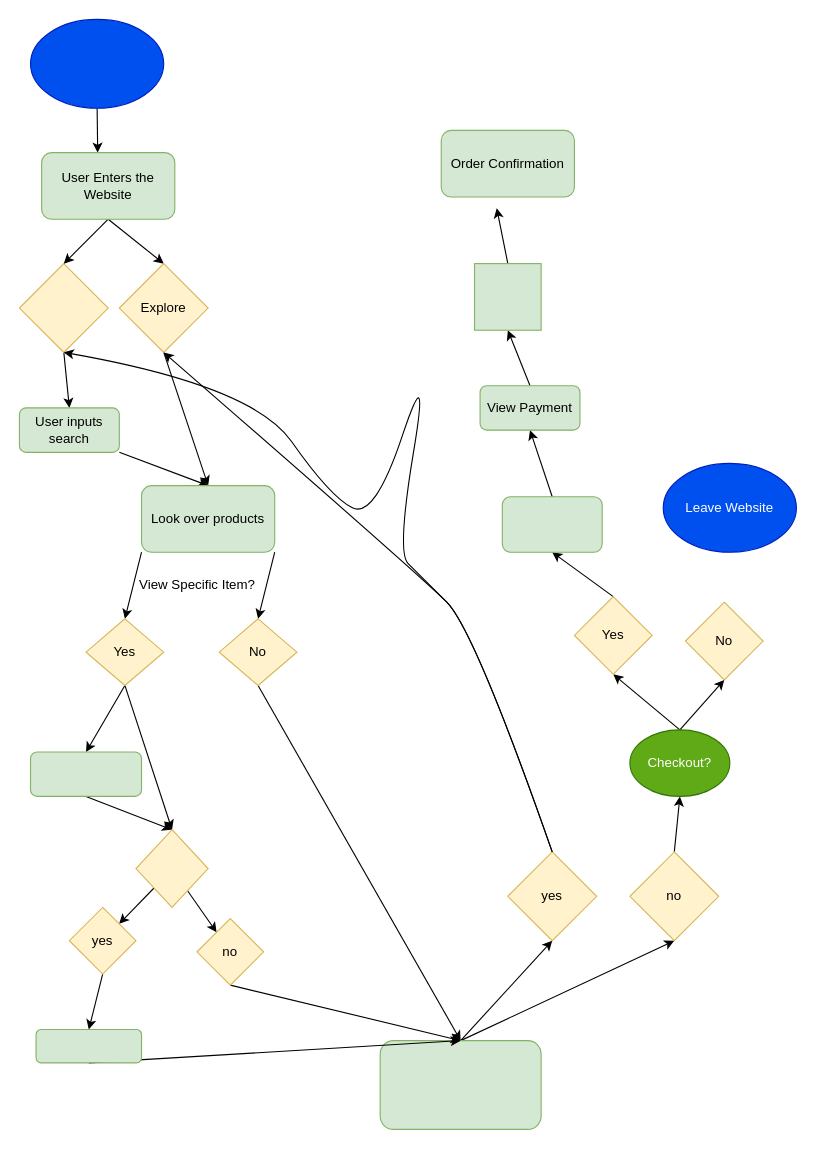
Image size: 816x1149. Some labels were removed from this diagram. Here are the shapes that lost their labels. From the top down, the centre of each, then its label:
At (96,63): "Start".
At (63,307): "Search".
At (507,296): "Enter Payment Information".
At (551,524): "View Cart".
At (85,773): "Open product page".
At (171,868): "Add to Cart?".
At (88,1045): "Add to Cart Confirmation".
At (460,1084): "Continue Shopping?".
